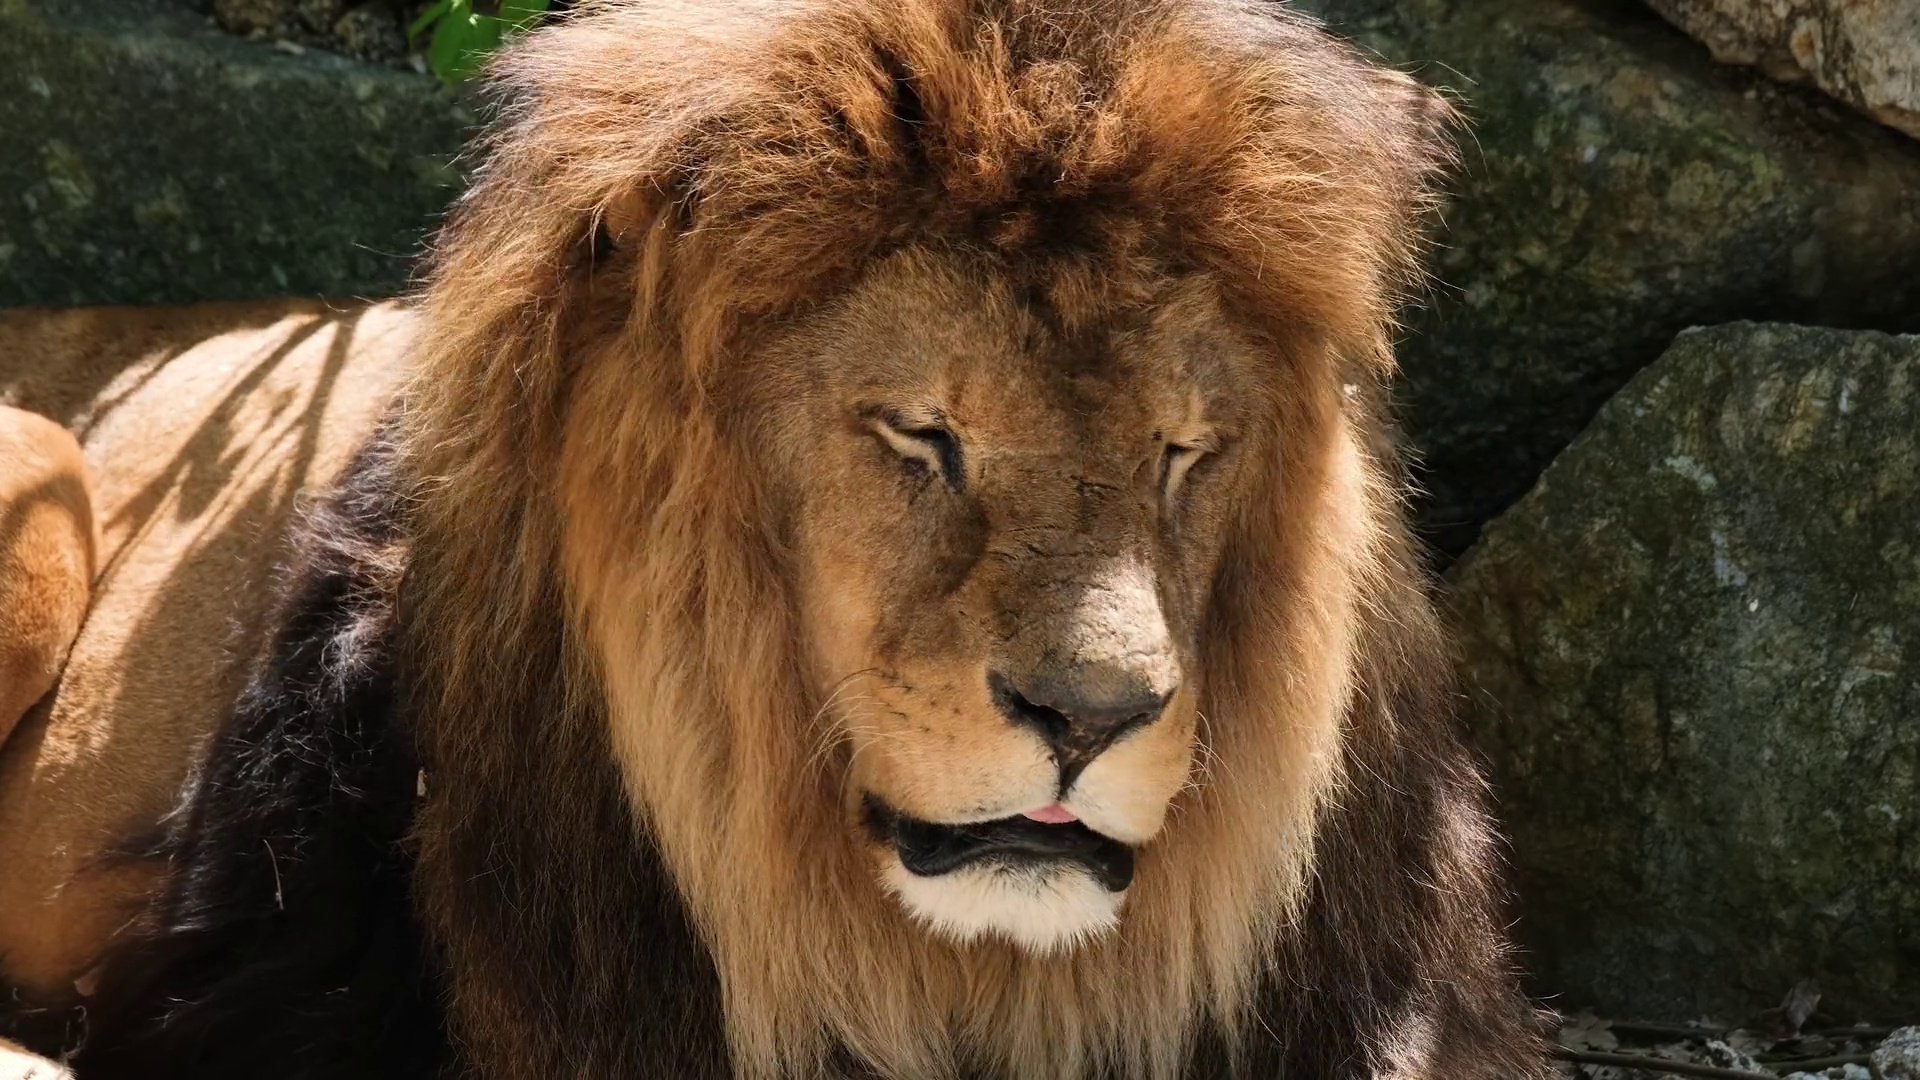Lion: (4, 4, 1567, 1080)
